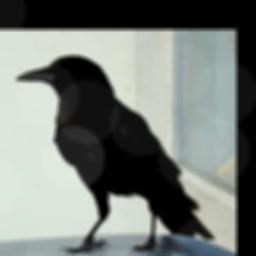Crow: (12, 54, 213, 256)
